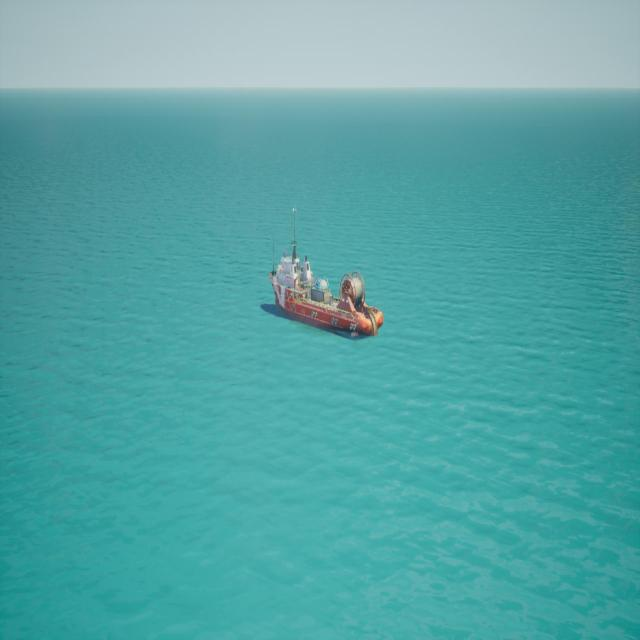tug boat: (263, 202, 381, 342)
